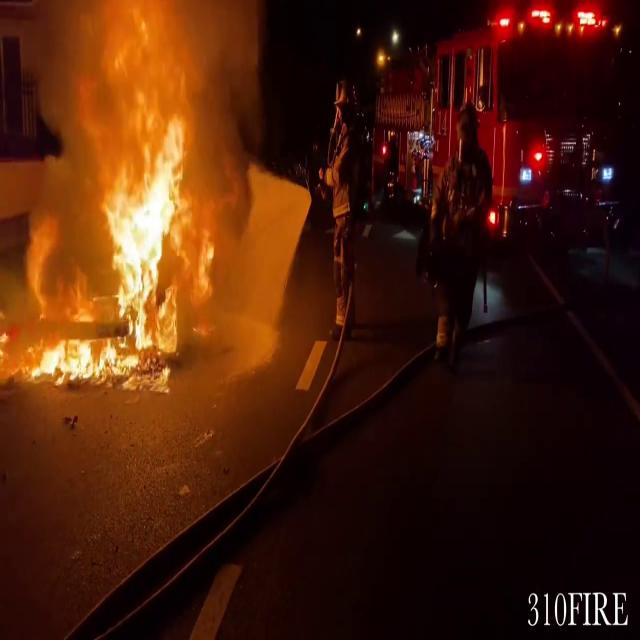Fire: (27, 64, 209, 382)
